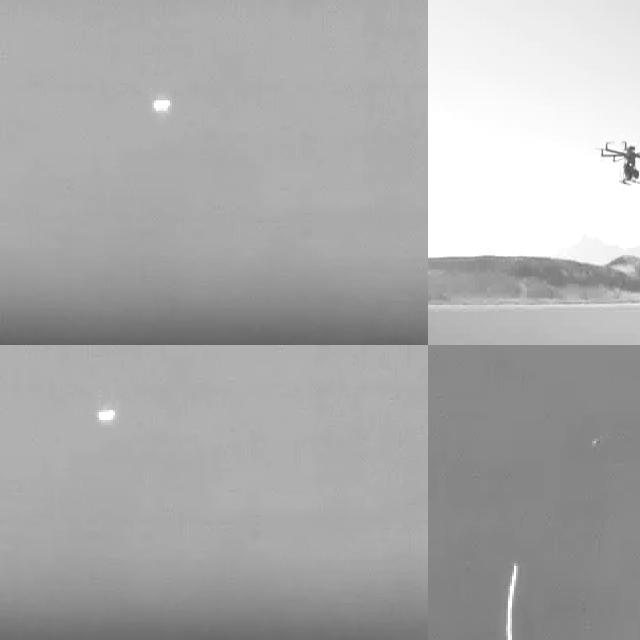0: (580, 432, 604, 460)
1: (142, 94, 178, 124), (87, 405, 123, 435)
drone: (597, 134, 640, 184)
